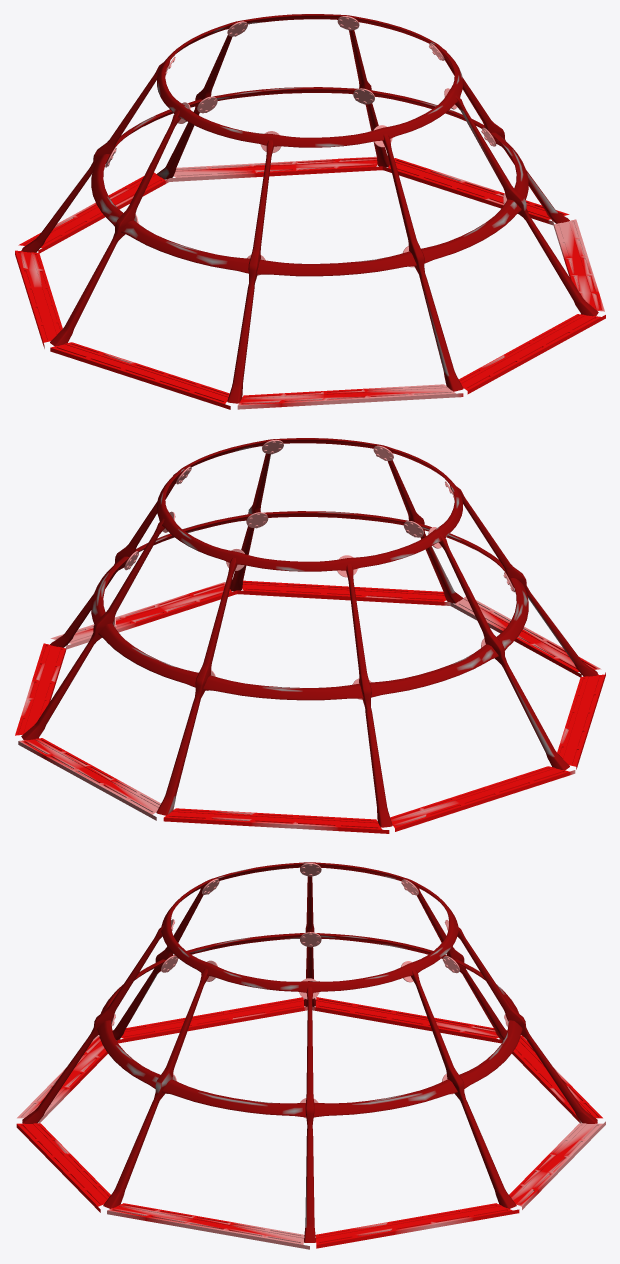
The model's file is MoonBaboon_GlassDome_01.gltf.
The picture shows the model from 3 angles, top to bottom: view 1: azimuth 30°, elevation 25°; view 2: azimuth 150°, elevation 25°; view 3: azimuth 270°, elevation 25°; orthographic projection. The views are drawn at different scales.
Parts seen in each view (by area): view 1: MoonBaboon_GlassDome_01; view 2: MoonBaboon_GlassDome_01; view 3: MoonBaboon_GlassDome_01.
Boxes of the visible parts, <box> form: MoonBaboon_GlassDome_01: <box>15,14,605,409</box>; MoonBaboon_GlassDome_01: <box>15,438,605,833</box>; MoonBaboon_GlassDome_01: <box>16,862,605,1249</box>.
Size of the model in its own units: 131 by 49.77 by 131.
